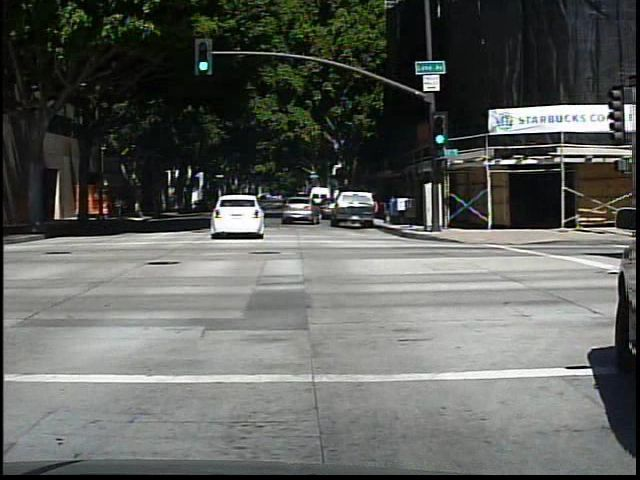person: (112, 194, 128, 222)
